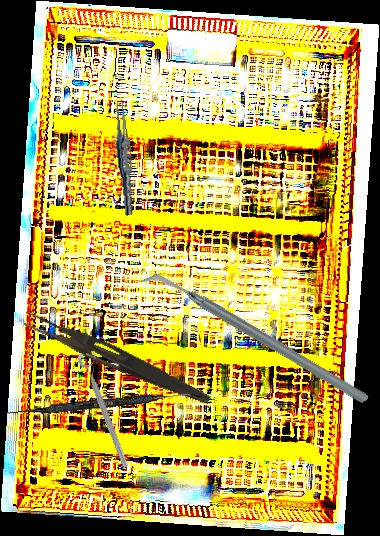Chopper: (137, 209, 372, 468)
Dressing Forceps: (20, 310, 215, 408)
Fixation Ring: (75, 348, 139, 470)
Spatula Surgical: (6, 386, 202, 421)
Tissue Forceps: (110, 99, 139, 217)
